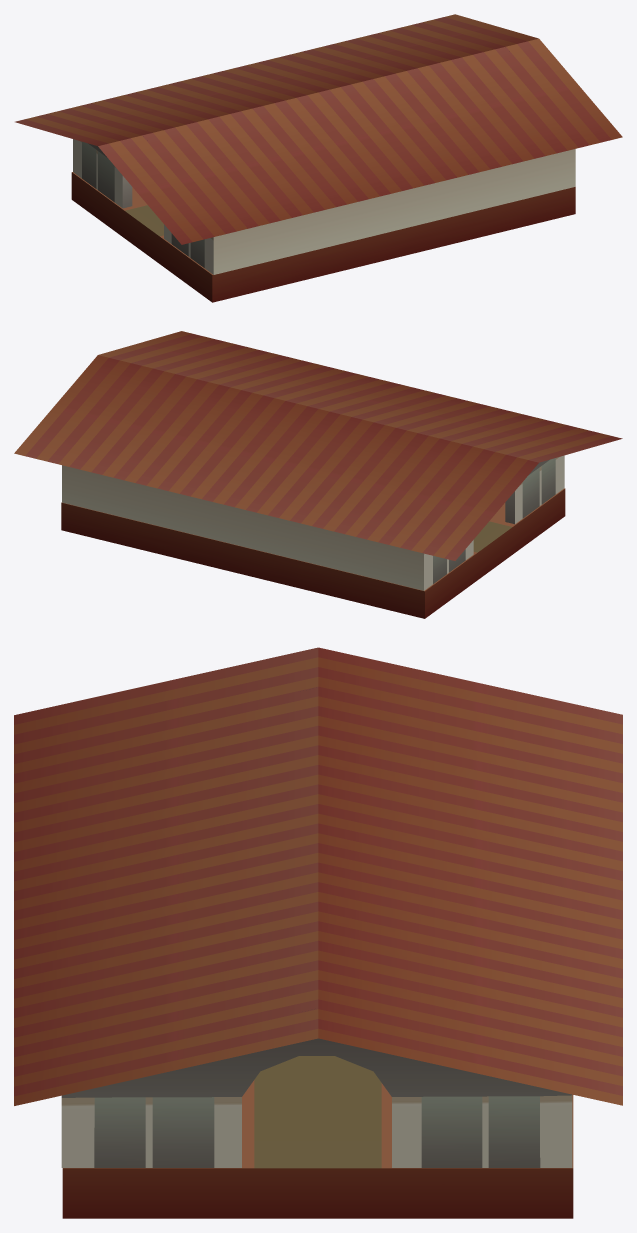
File: SM_Pig_Farm_Combine.fbx
3 views of the same model, one above another, from view 1: azimuth 30°, elevation 25°; view 2: azimuth 150°, elevation 25°; view 3: azimuth 270°, elevation 25° (orthographic). The views are drawn at different scales.
Parts seen in each view (by area): view 1: Farm_Part_01.001; view 2: Farm_Part_01.001; view 3: Farm_Part_01.001.
Boxes of the visible parts, x1,y1,x2,y2 form: Farm_Part_01.001: [15, 14, 622, 302]; Farm_Part_01.001: [14, 331, 622, 618]; Farm_Part_01.001: [14, 647, 622, 1218].
Size of the model in its own units: 239 by 59.89 by 157.
